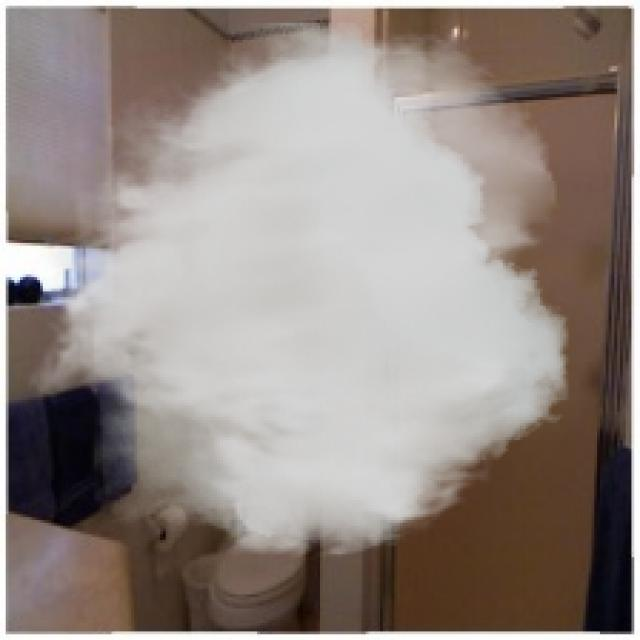smoke: (26, 23, 568, 563)
